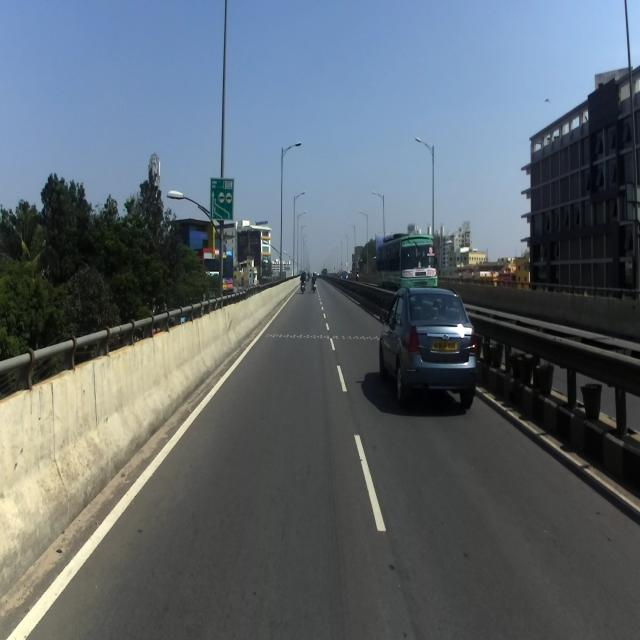car ahead at: (380, 277, 480, 415)
